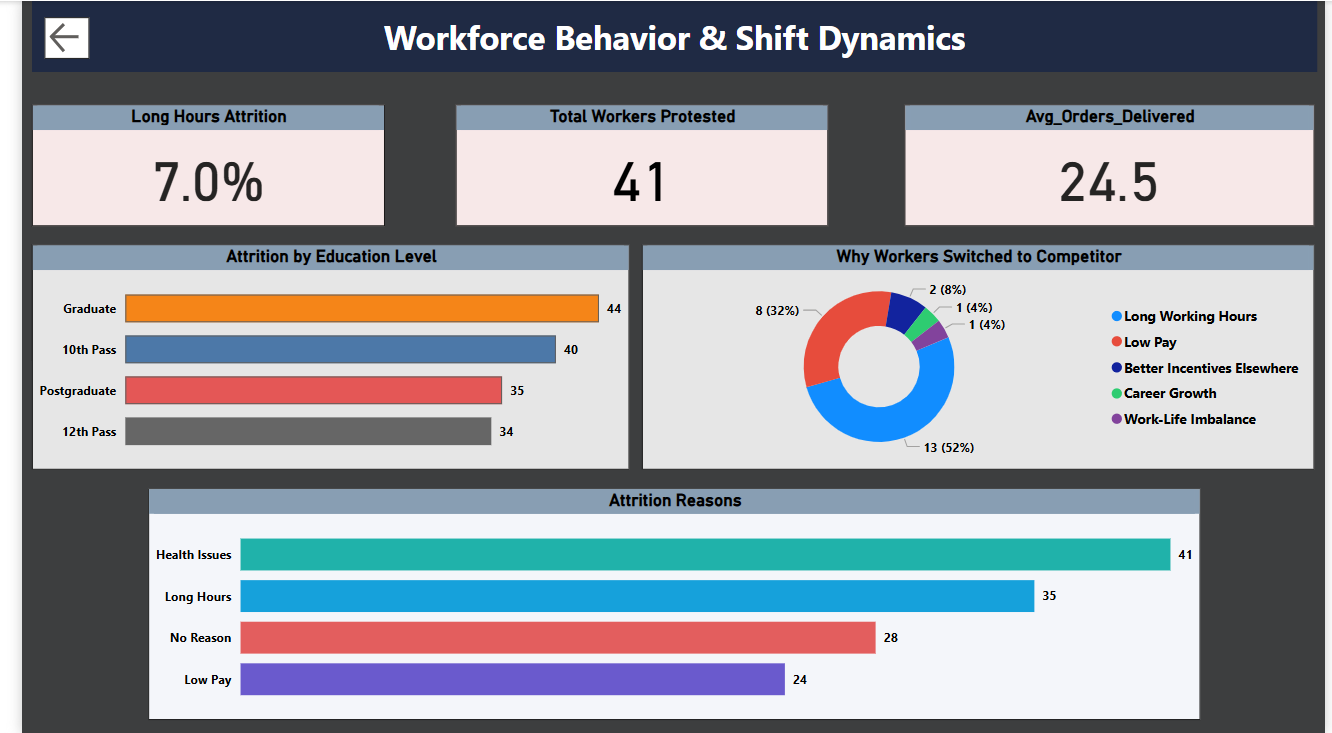

What the dashboard file says about the page in this screenshot:
{"tool":"powerbi","page":{"name":"Workforce Behavior & Shift Dynamics","canvas":[1280,720],"ordinal":1},"visuals":[{"type":"card","title":"Long Hours Attrition","fields":{"Values":["gig_worker_data.LongHours_Attrition_Percentage"]},"box":[9.8,101.8,346,119],"z":0},{"type":"card","title":"Total Workers Protested","fields":{"Values":["gig_worker_data.Total_Protestors"]},"box":[425.8,101.8,365.6,119],"z":1000},{"type":"card","title":"Avg_Orders_Delivered","fields":{"Values":["gig_worker_data.Avg_Orders_Delivered"]},"box":[866.3,101.8,402.5,119],"z":2000},{"type":"shape","title":"Workforce Behavior & Shift Dynamics","box":[9.8,0,1261.4,69.9],"z":3000},{"type":"barChart","title":"Attrition by Education Level","fields":{"Category":["gig_worker_data.Education_Level"],"Y":["Sum(gig_worker_data.Attrition_flag)"]},"box":[9.8,239.3,586.5,220.9],"z":4000},{"type":"donutChart","title":"Why Workers Switched to Competitor","fields":{"Y":["CountNonNull(gig_worker_data.Worker_ID)"],"Category":["gig_worker_data.Switch_SubReason"]},"box":[608.6,239.3,660.1,220.9],"z":5000},{"type":"clusteredBarChart","title":"Attrition Reasons","fields":{"Y":["CountNonNull(gig_worker_data.Worker_ID)"],"Category":["gig_worker_data.Attrition_reason"]},"box":[123.9,478.5,1033.1,227],"z":6000},{"type":"actionButton","box":[22.1,16,44.2,40.5],"z":7000}]}

Visuals, with their boxes in screenshot pixels (x1, y1, x2, y2), scaled from the page's 1280x720 canvas onto the 1332x733 screenshot:
"Long Hours Attrition" card: crop(10, 104, 370, 225)
"Total Workers Protested" card: crop(443, 104, 824, 225)
"Avg_Orders_Delivered" card: crop(901, 104, 1320, 225)
"Workforce Behavior & Shift Dynamics" shape: crop(10, 0, 1323, 71)
"Attrition by Education Level" barChart: crop(10, 244, 621, 469)
"Why Workers Switched to Competitor" donutChart: crop(633, 244, 1320, 469)
"Attrition Reasons" clusteredBarChart: crop(129, 487, 1204, 718)
actionButton: crop(23, 16, 69, 58)
